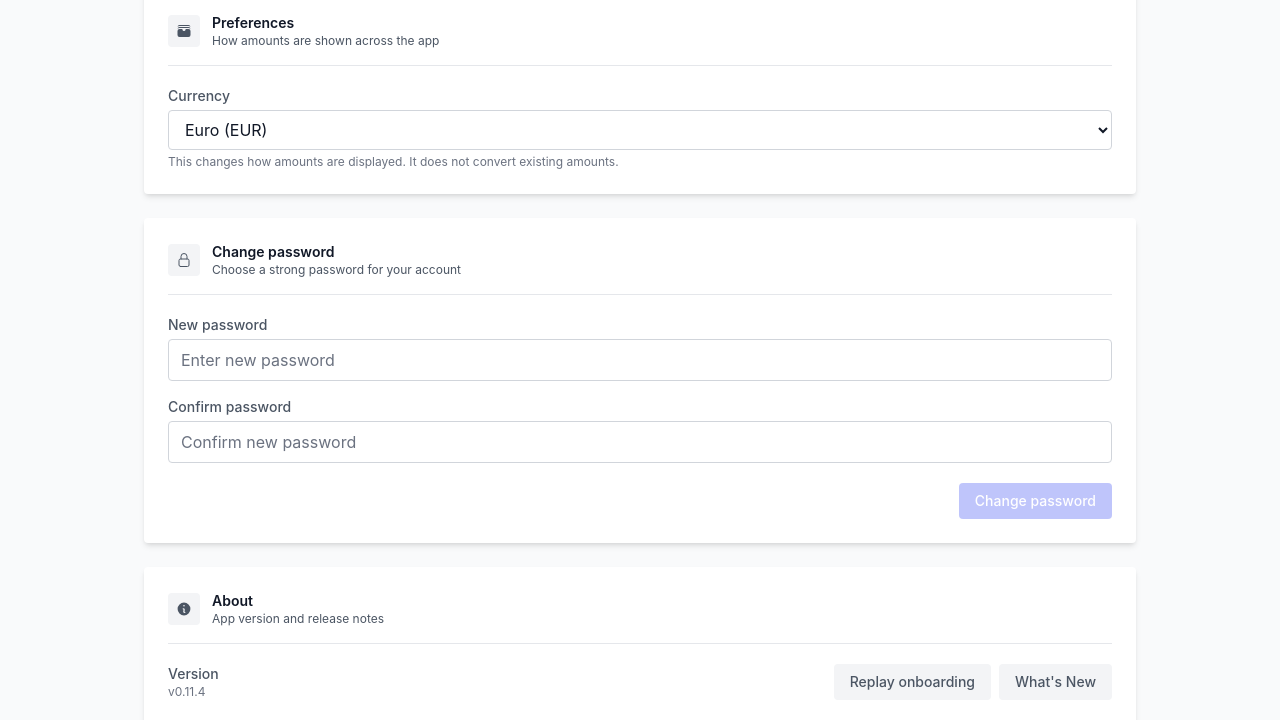
Test: Profile › Change password button › is enabled when new password is entered
The image size is (1280, 720).
(page scrolled)
Type "secret123" into the password field labelled "New password" at (640, 360), box [168,339,1112,381]
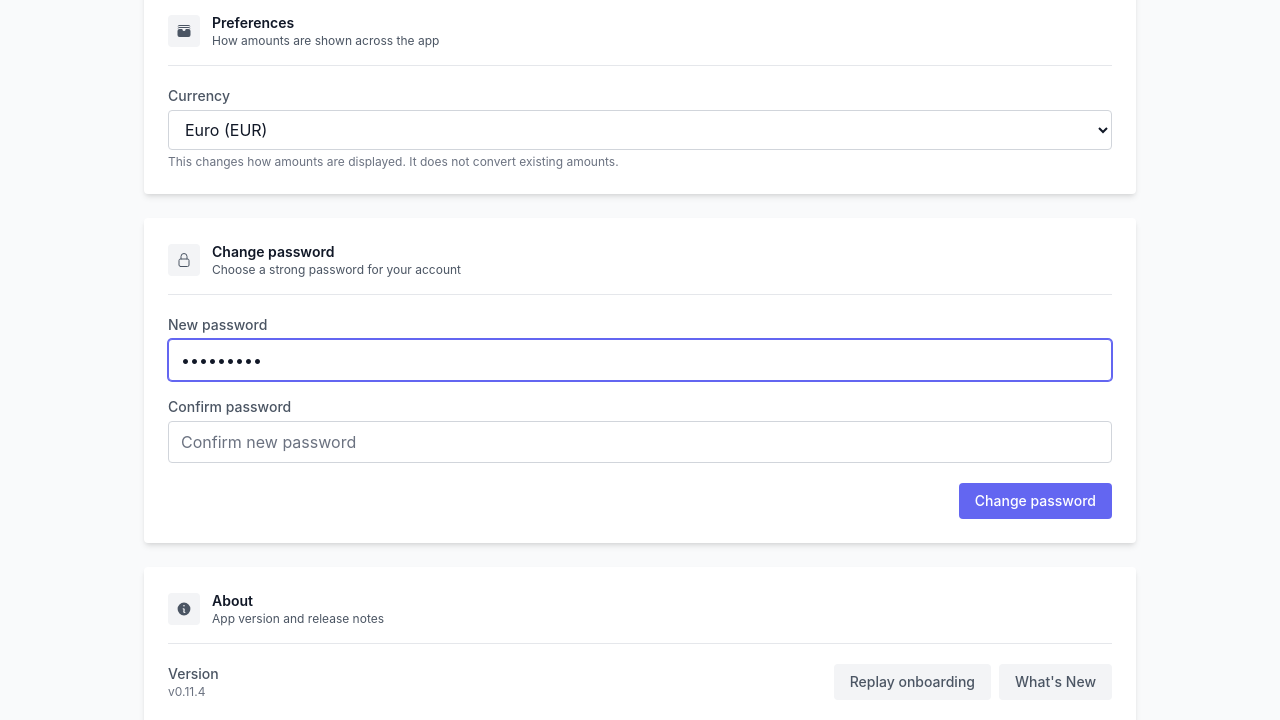
Expected: the button "Change password" is enabled, [959,483,1112,519]
